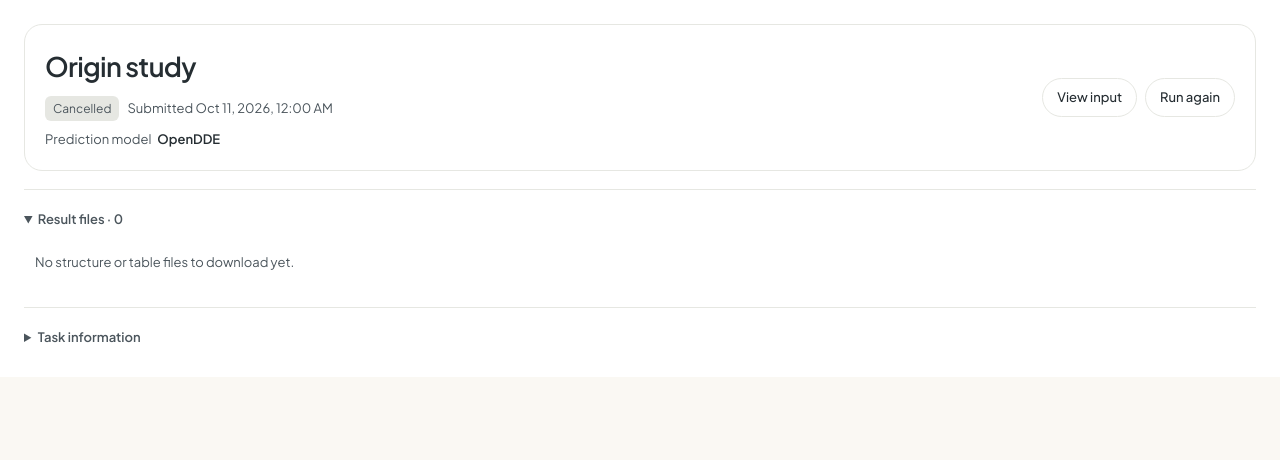
Test: keeps a fresh cleanup failure distinct from task history (en)
Click the button "Run again" at (1190, 98), box [1145,78,1235,117]
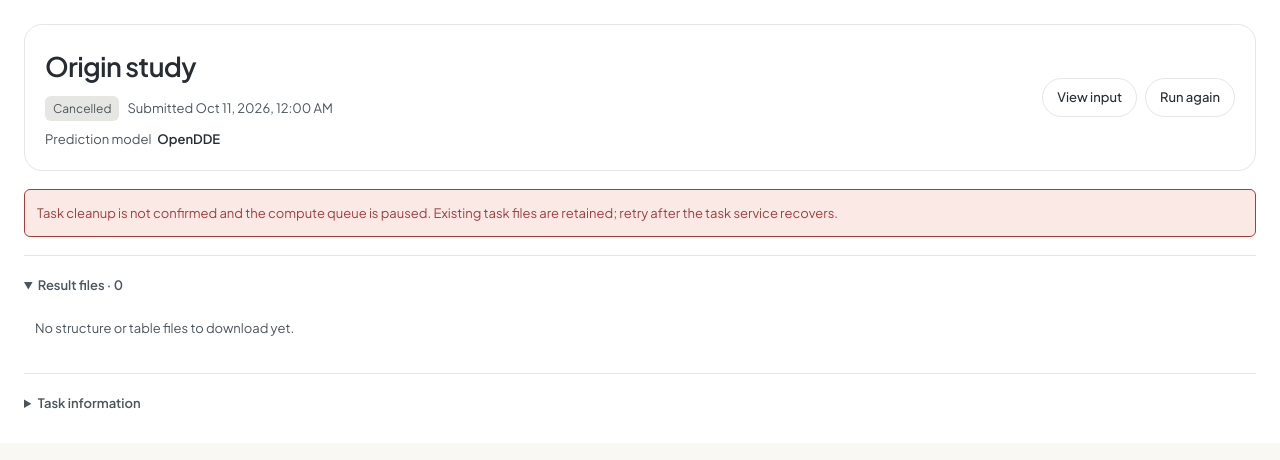
Expected: the message shows "compute queue is paused", [37,205,838,221]
